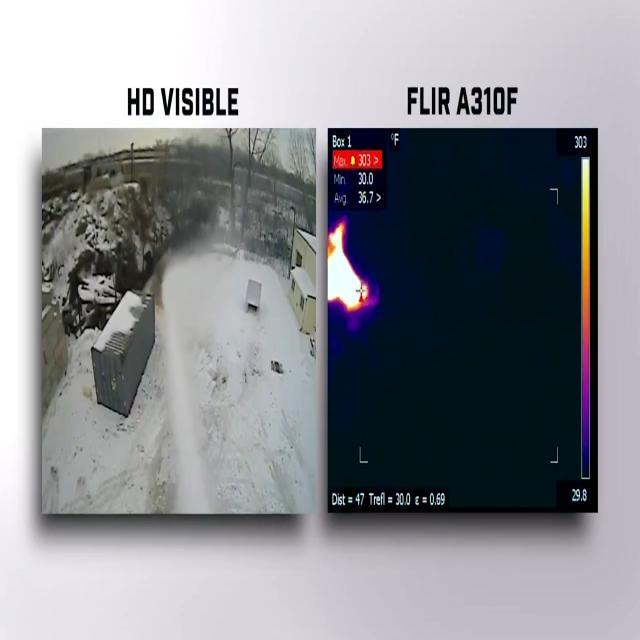fire: (329, 221, 372, 319)
